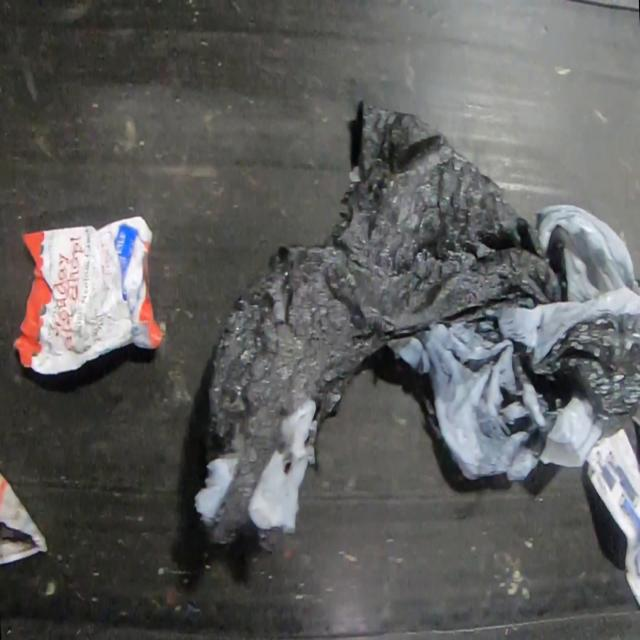soft_plastic: (193, 100, 640, 544)
